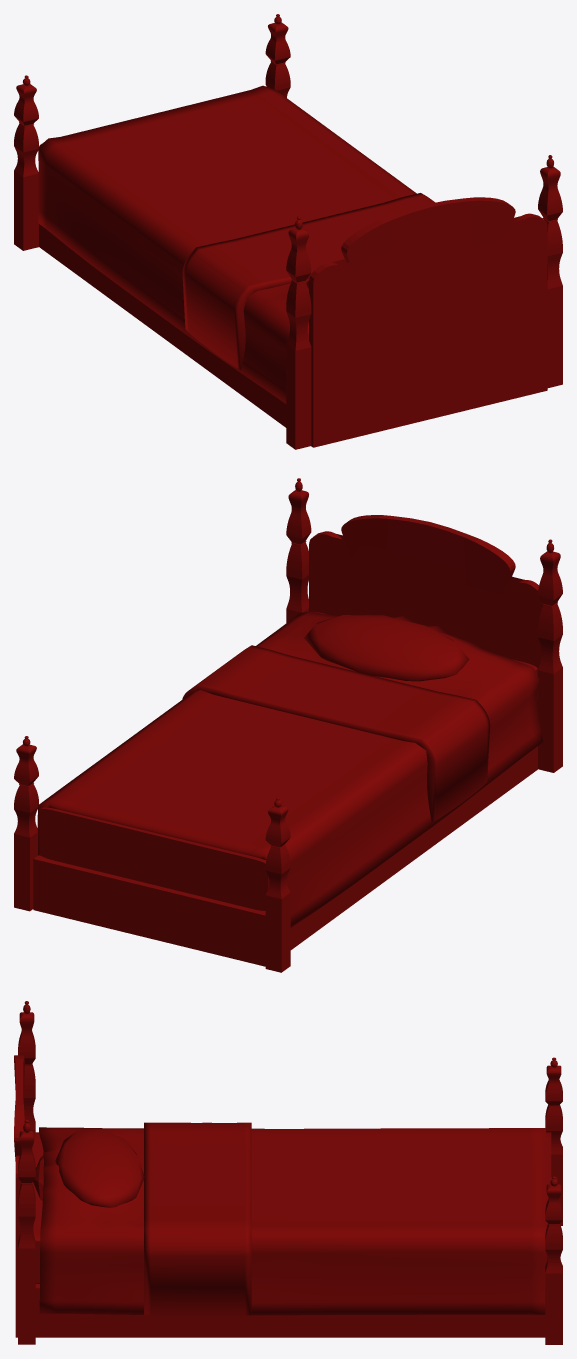
Rendered from SM_Bed.fbx.
3 renders of one model, top to bottom at view 1: azimuth 30°, elevation 25°; view 2: azimuth 150°, elevation 25°; view 3: azimuth 270°, elevation 25°, orthographic. The views are drawn at different scales.
Parts seen in each view (by area): view 1: Cube.001, Plane, Cube.003, Plane.001; view 2: Plane, Cube.001, Plane.001, Cube.003, Cube.002, Icosphere.003; view 3: Plane, Plane.001, Cube.001, Cube.003, Icosphere.003, Cube.002.
Boxes of the visible parts, x1,y1,x2,y2 form: Cube.001: (39,197,547,447); Plane: (38,85,416,403); Cube.003: (14,14,562,449); Plane.001: (182,193,435,369); Plane: (37,611,543,927); Cube.001: (33,515,543,966); Plane.001: (182,645,490,821); Cube.003: (14,478,562,972); Cube.002: (39,611,537,910); Icosphere.003: (304,615,469,681); Plane: (39,1127,547,1315); Plane.001: (144,1122,251,1315); Cube.001: (14,1055,557,1337); Cube.003: (18,1001,562,1344); Icosphere.003: (55,1129,144,1207); Cube.002: (32,1132,551,1283).
Size of the model in its own units: 262 by 215 by 482.
